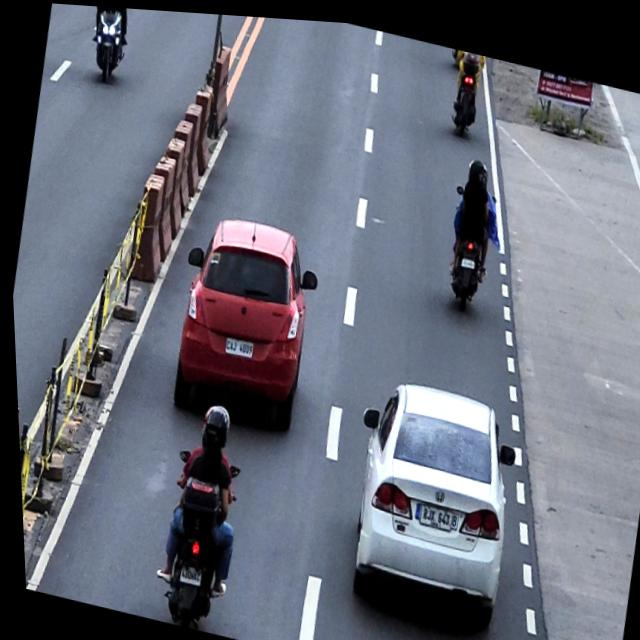Car: (328, 364, 527, 615), (157, 201, 328, 432)
License-Plate: (412, 496, 450, 527), (219, 332, 252, 357), (172, 559, 199, 586), (456, 250, 474, 264)
Motorcycle: (144, 443, 244, 632), (433, 176, 496, 308), (79, 4, 136, 86), (445, 49, 485, 133)
